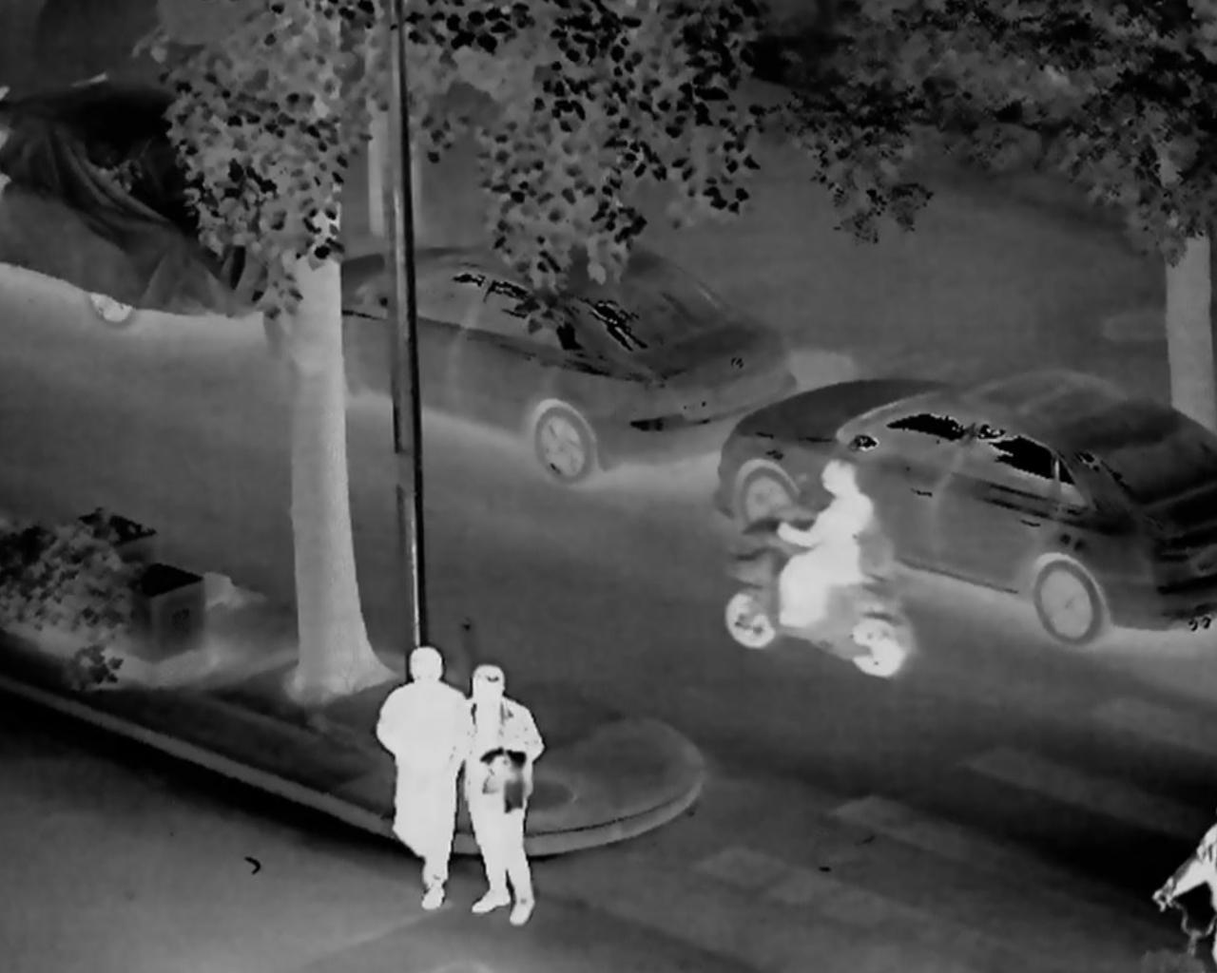person: (763, 447, 892, 666), (459, 656, 557, 925), (372, 648, 469, 908)
